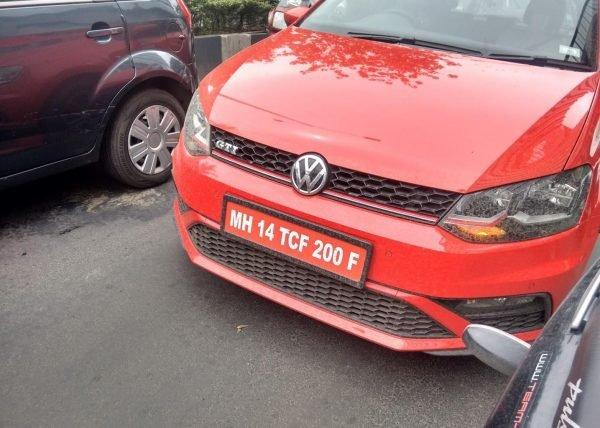Liscence Plate: (219, 197, 369, 287)
